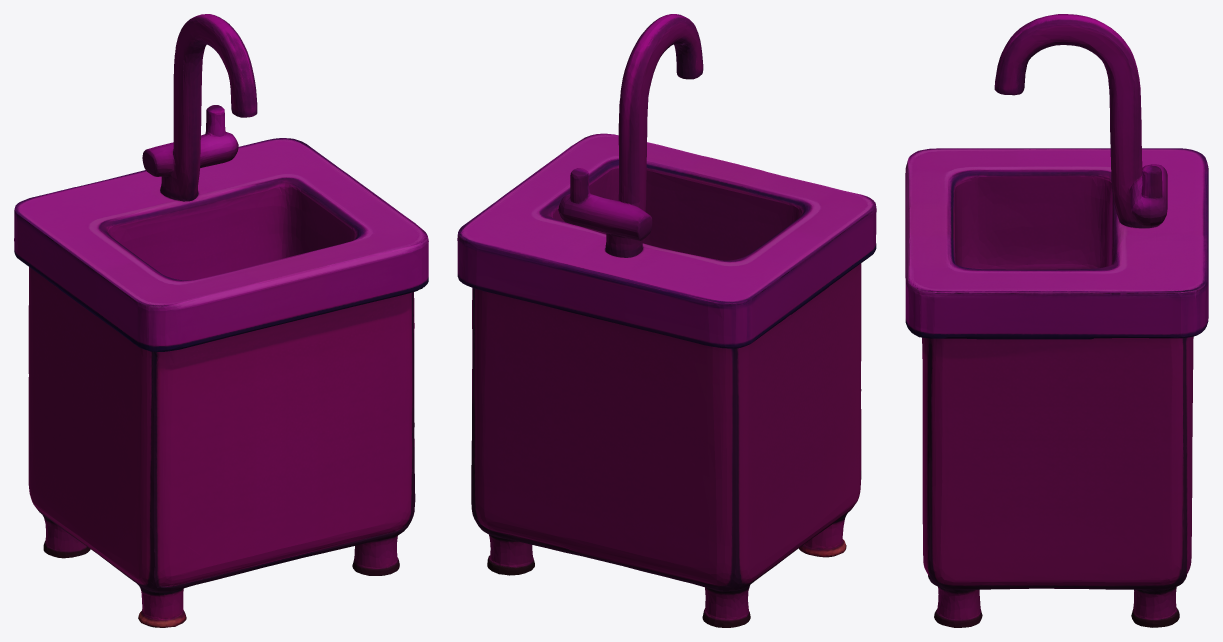
The picture shows the model from 3 angles, left to right: view 1: azimuth 30°, elevation 25°; view 2: azimuth 150°, elevation 25°; view 3: azimuth 270°, elevation 25°; orthographic projection. The views are drawn at different scales.
Visible parts, largest first — view 1: world; view 2: world; view 3: world.
Part boxes in pixels (box(x1,y1,x2,y2)): world: box(14, 14, 428, 627); world: box(457, 14, 876, 627); world: box(905, 14, 1208, 627).
Size of the model in its own units: 56.64 by 100 by 50.2.
Materials: 1 (1 with a texture image).
